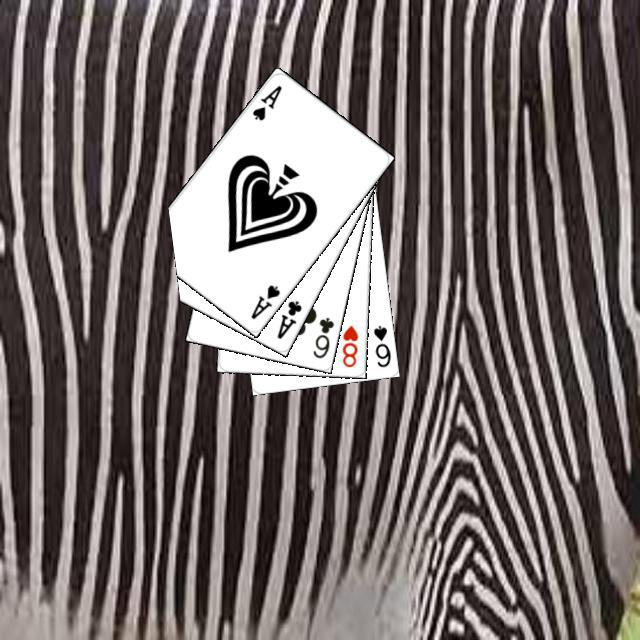6c: (308, 312, 336, 360)
6s: (368, 321, 392, 369)
8h: (337, 321, 359, 369)
Ac: (272, 295, 304, 341)
As: (247, 80, 284, 122), (245, 280, 282, 321)
